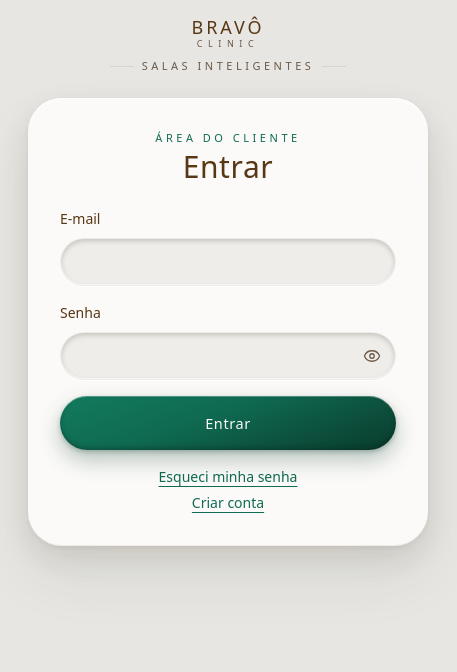
Test: LoginPage › shows the wait time in minutes on a 429 response with Retry-After
Type "ana@example.com" into the field labelled "E-mail" at {"x": 228, "y": 262}, box [60, 238, 396, 286]
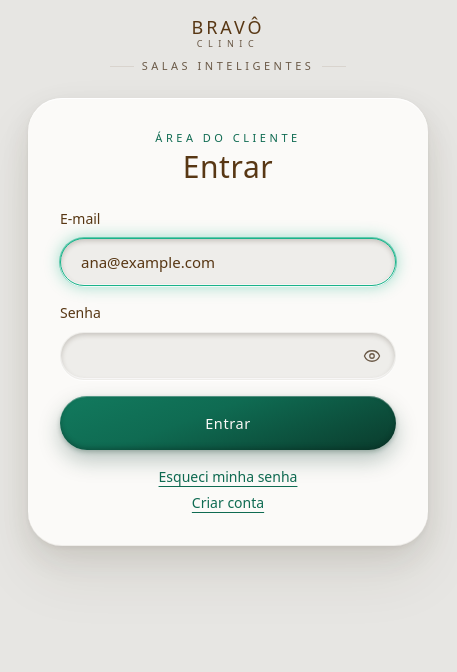
Type "Senha1234" into the password field labelled "Senha" at {"x": 228, "y": 356}, box [60, 332, 396, 380]
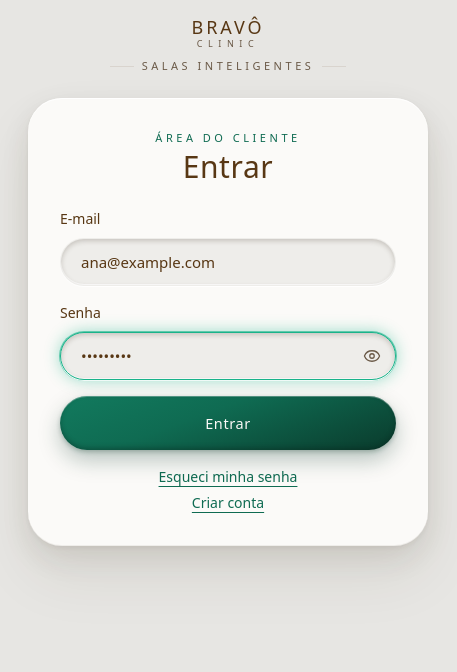
Click the button "Entrar" at {"x": 228, "y": 423}, box [60, 396, 396, 450]
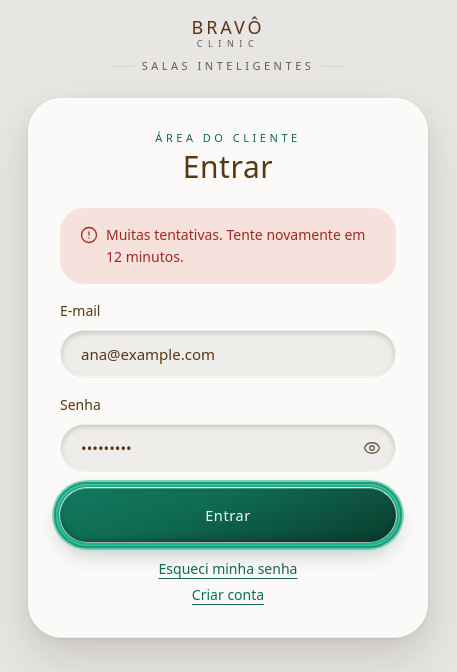
Expected: the message reads "Muitas tentativas. Tente novamente em 12 minutos.", [106, 225, 365, 266]
